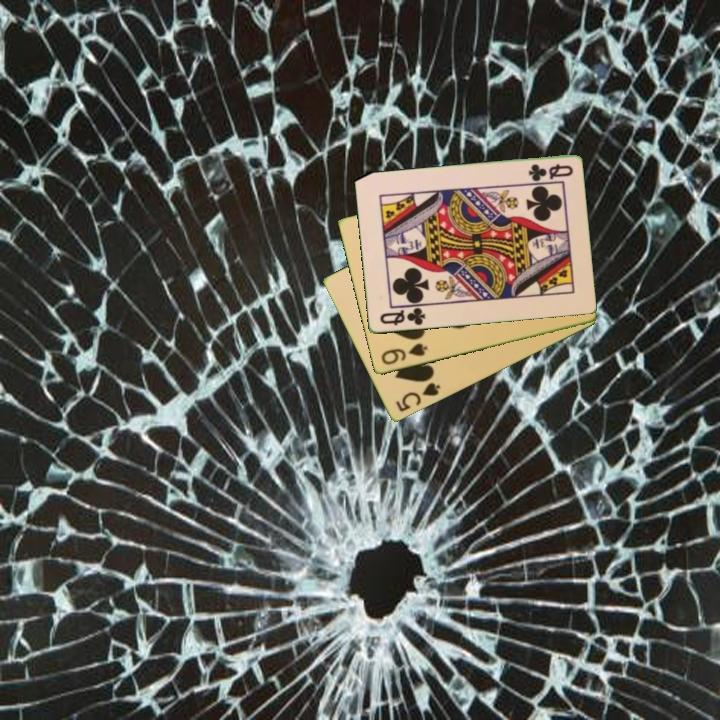5s: (392, 379, 443, 415)
9s: (377, 340, 430, 368)
Qc: (376, 305, 428, 329), (525, 161, 576, 184)
